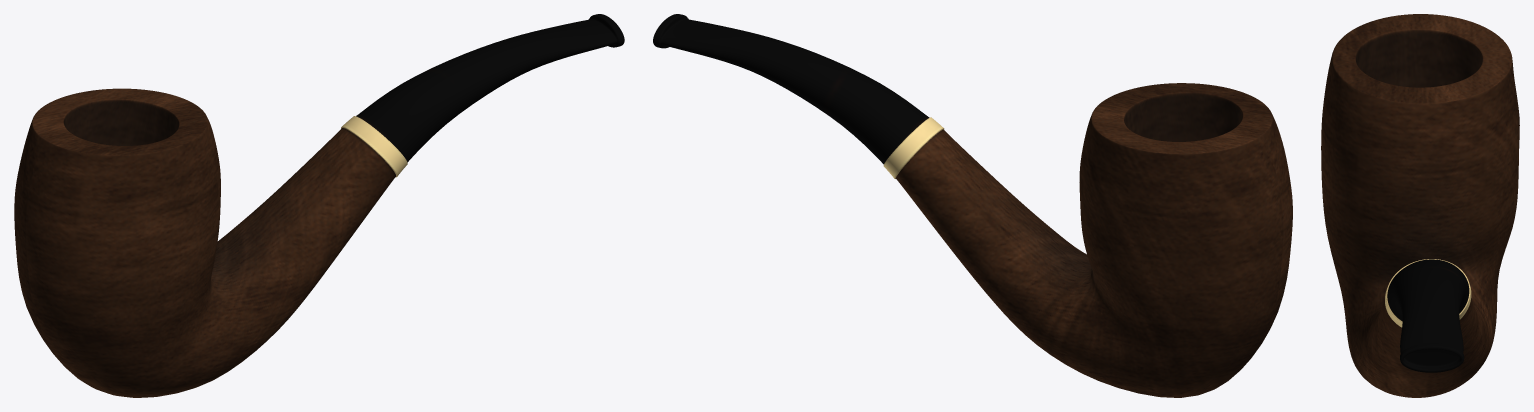
Rendered from pipe2.glb.
The picture shows the model from 3 angles, left to right: view 1: azimuth 30°, elevation 25°; view 2: azimuth 150°, elevation 25°; view 3: azimuth 270°, elevation 25°; orthographic projection. The views are drawn at different scales.
Parts seen in each view (by area): view 1: pipas; view 2: pipas; view 3: pipas.
Boxes of the visible parts, <box> form: pipas: <box>14,14,624,397</box>; pipas: <box>653,14,1292,397</box>; pipas: <box>1321,14,1519,397</box>.
Bounding box in the file's own units: 0.1326 × 0.0586 × 0.035.
Materials: 2 (2 with a texture image).
